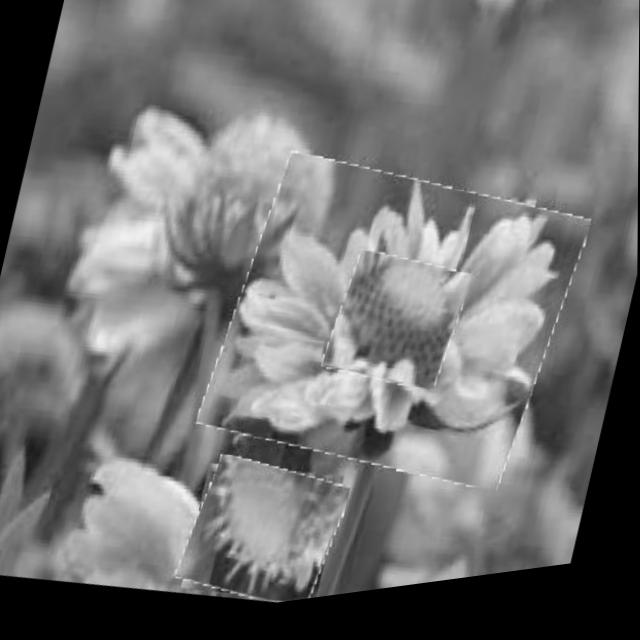Flower: (197, 130, 591, 533), (176, 447, 352, 621), (322, 248, 472, 412)
